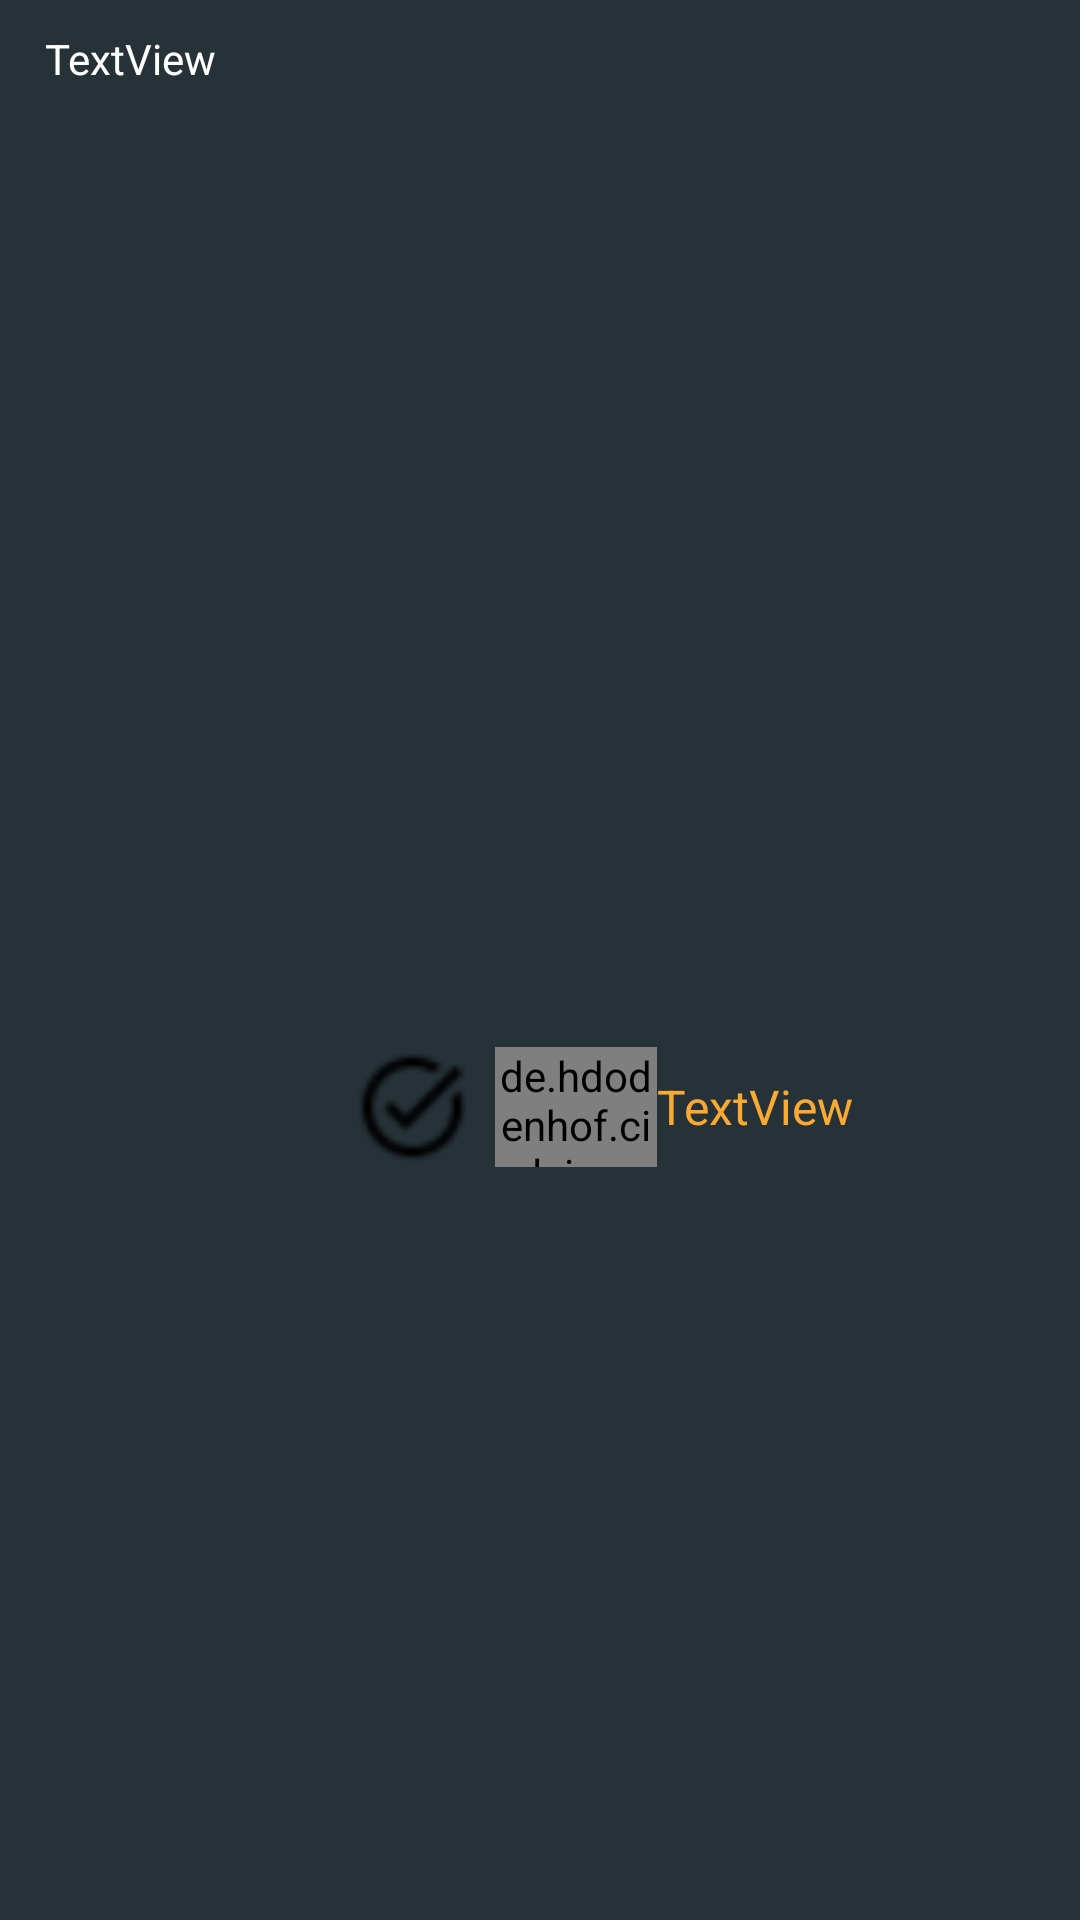

Screen size 1080×1920. Icon name, then its box in pixels as (x1, y1, x2, y2):
ckechk: (362, 1057, 463, 1157)
